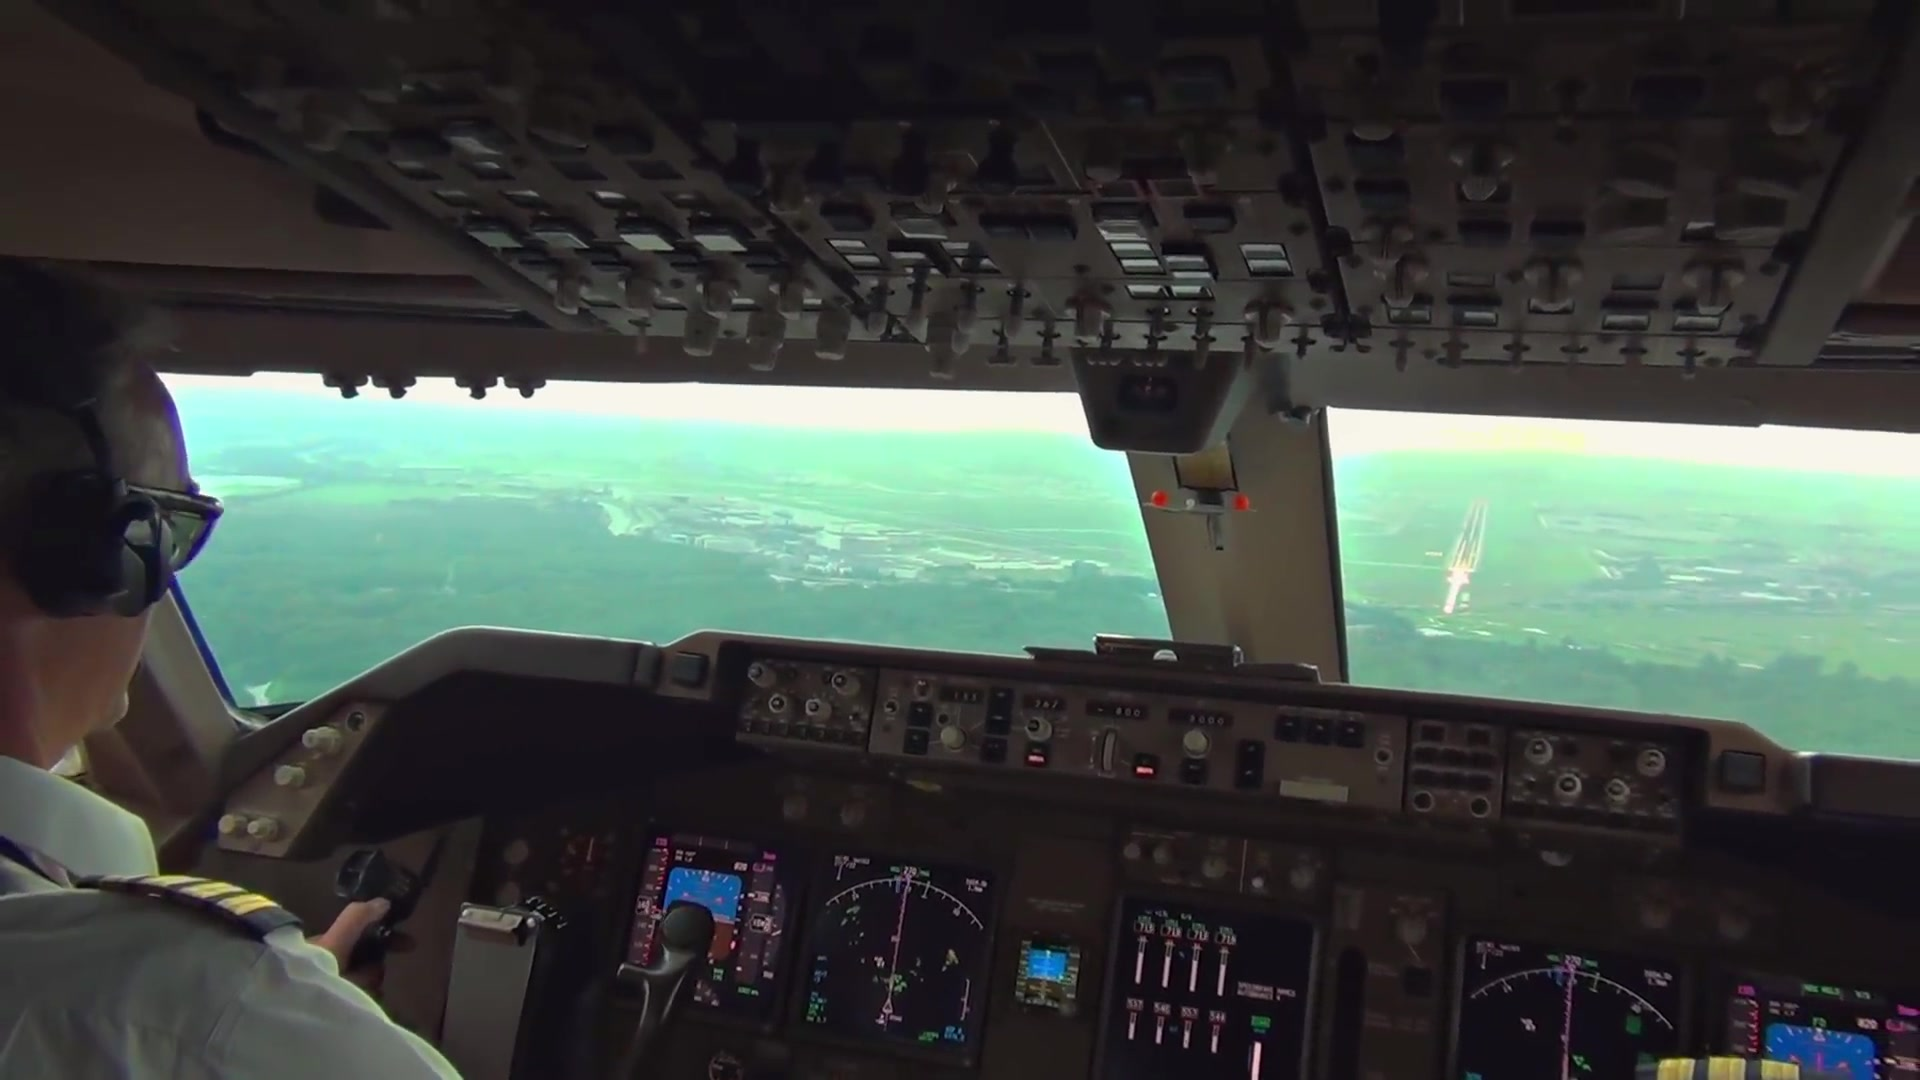runway: (1445, 500, 1490, 574)
